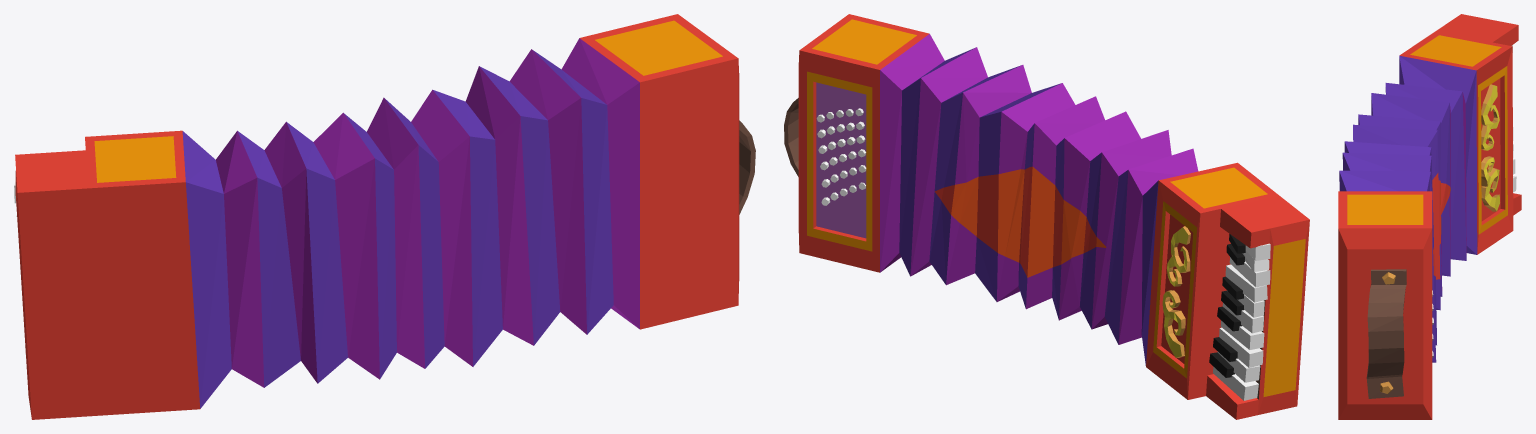
File: accordion.glb
3 views of the same model, side by side, from view 1: azimuth 30°, elevation 25°; view 2: azimuth 150°, elevation 25°; view 3: azimuth 270°, elevation 25° (orthographic). The views are drawn at different scales.
Visible parts, largest first — view 1: group1934361976; view 2: group1934361976; view 3: group1934361976.
Boxes of the visible parts, <box> form: group1934361976: <box>14,14,755,419</box>; group1934361976: <box>784,14,1309,419</box>; group1934361976: <box>1338,14,1521,419</box>.
Size of the model in its own units: 1.68 by 0.634 by 0.5062.
